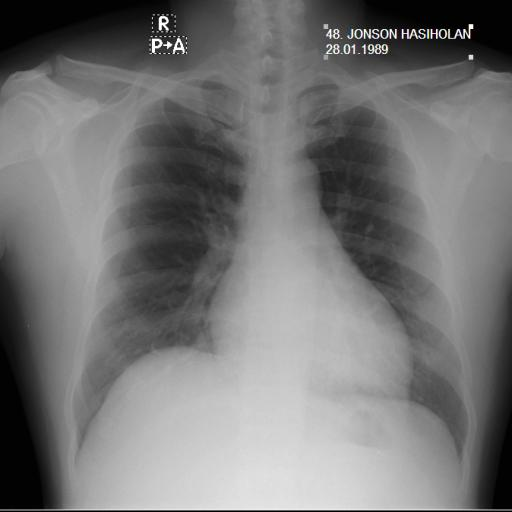kardiomegali: (63, 56, 471, 466)
